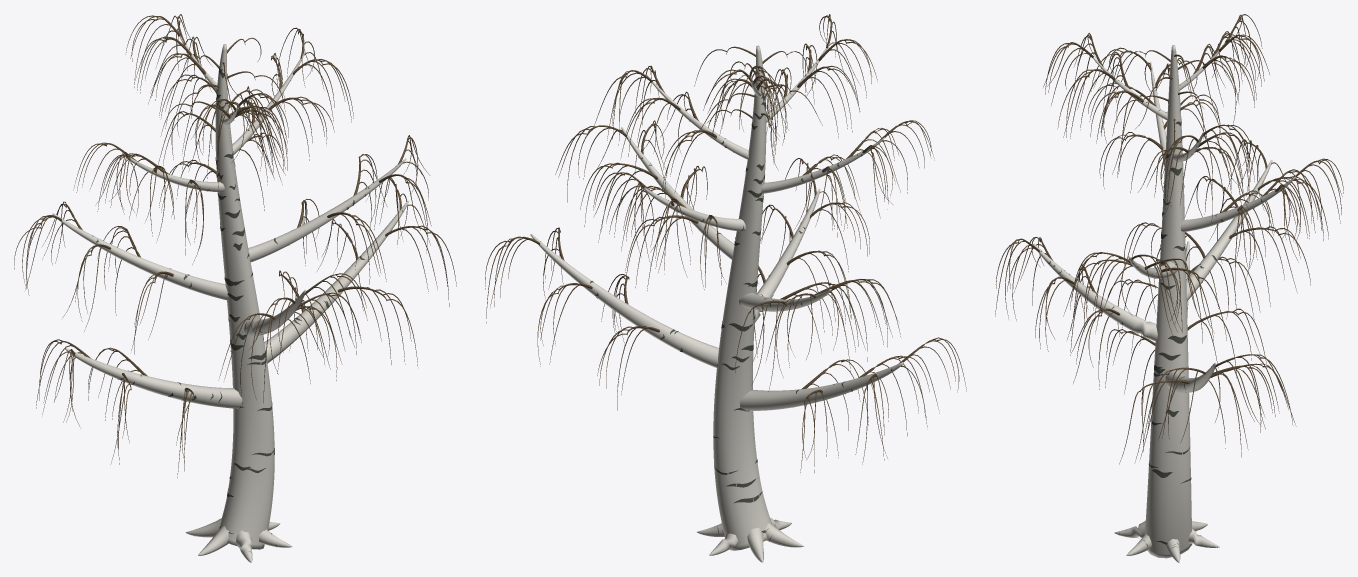
File: wood.glb
3 renders of one model, left to right at view 1: azimuth 30°, elevation 25°; view 2: azimuth 150°, elevation 25°; view 3: azimuth 270°, elevation 25°, orthographic.
Parts seen in each view (by area): view 1: Wood; view 2: Wood; view 3: Wood.
Part boxes in pixels (<box>): Wood: <box>14,14,456,562</box>; Wood: <box>485,14,966,562</box>; Wood: <box>995,14,1343,562</box>.
Bounding box in the file's own units: 5.76 × 6.93 × 4.29.
